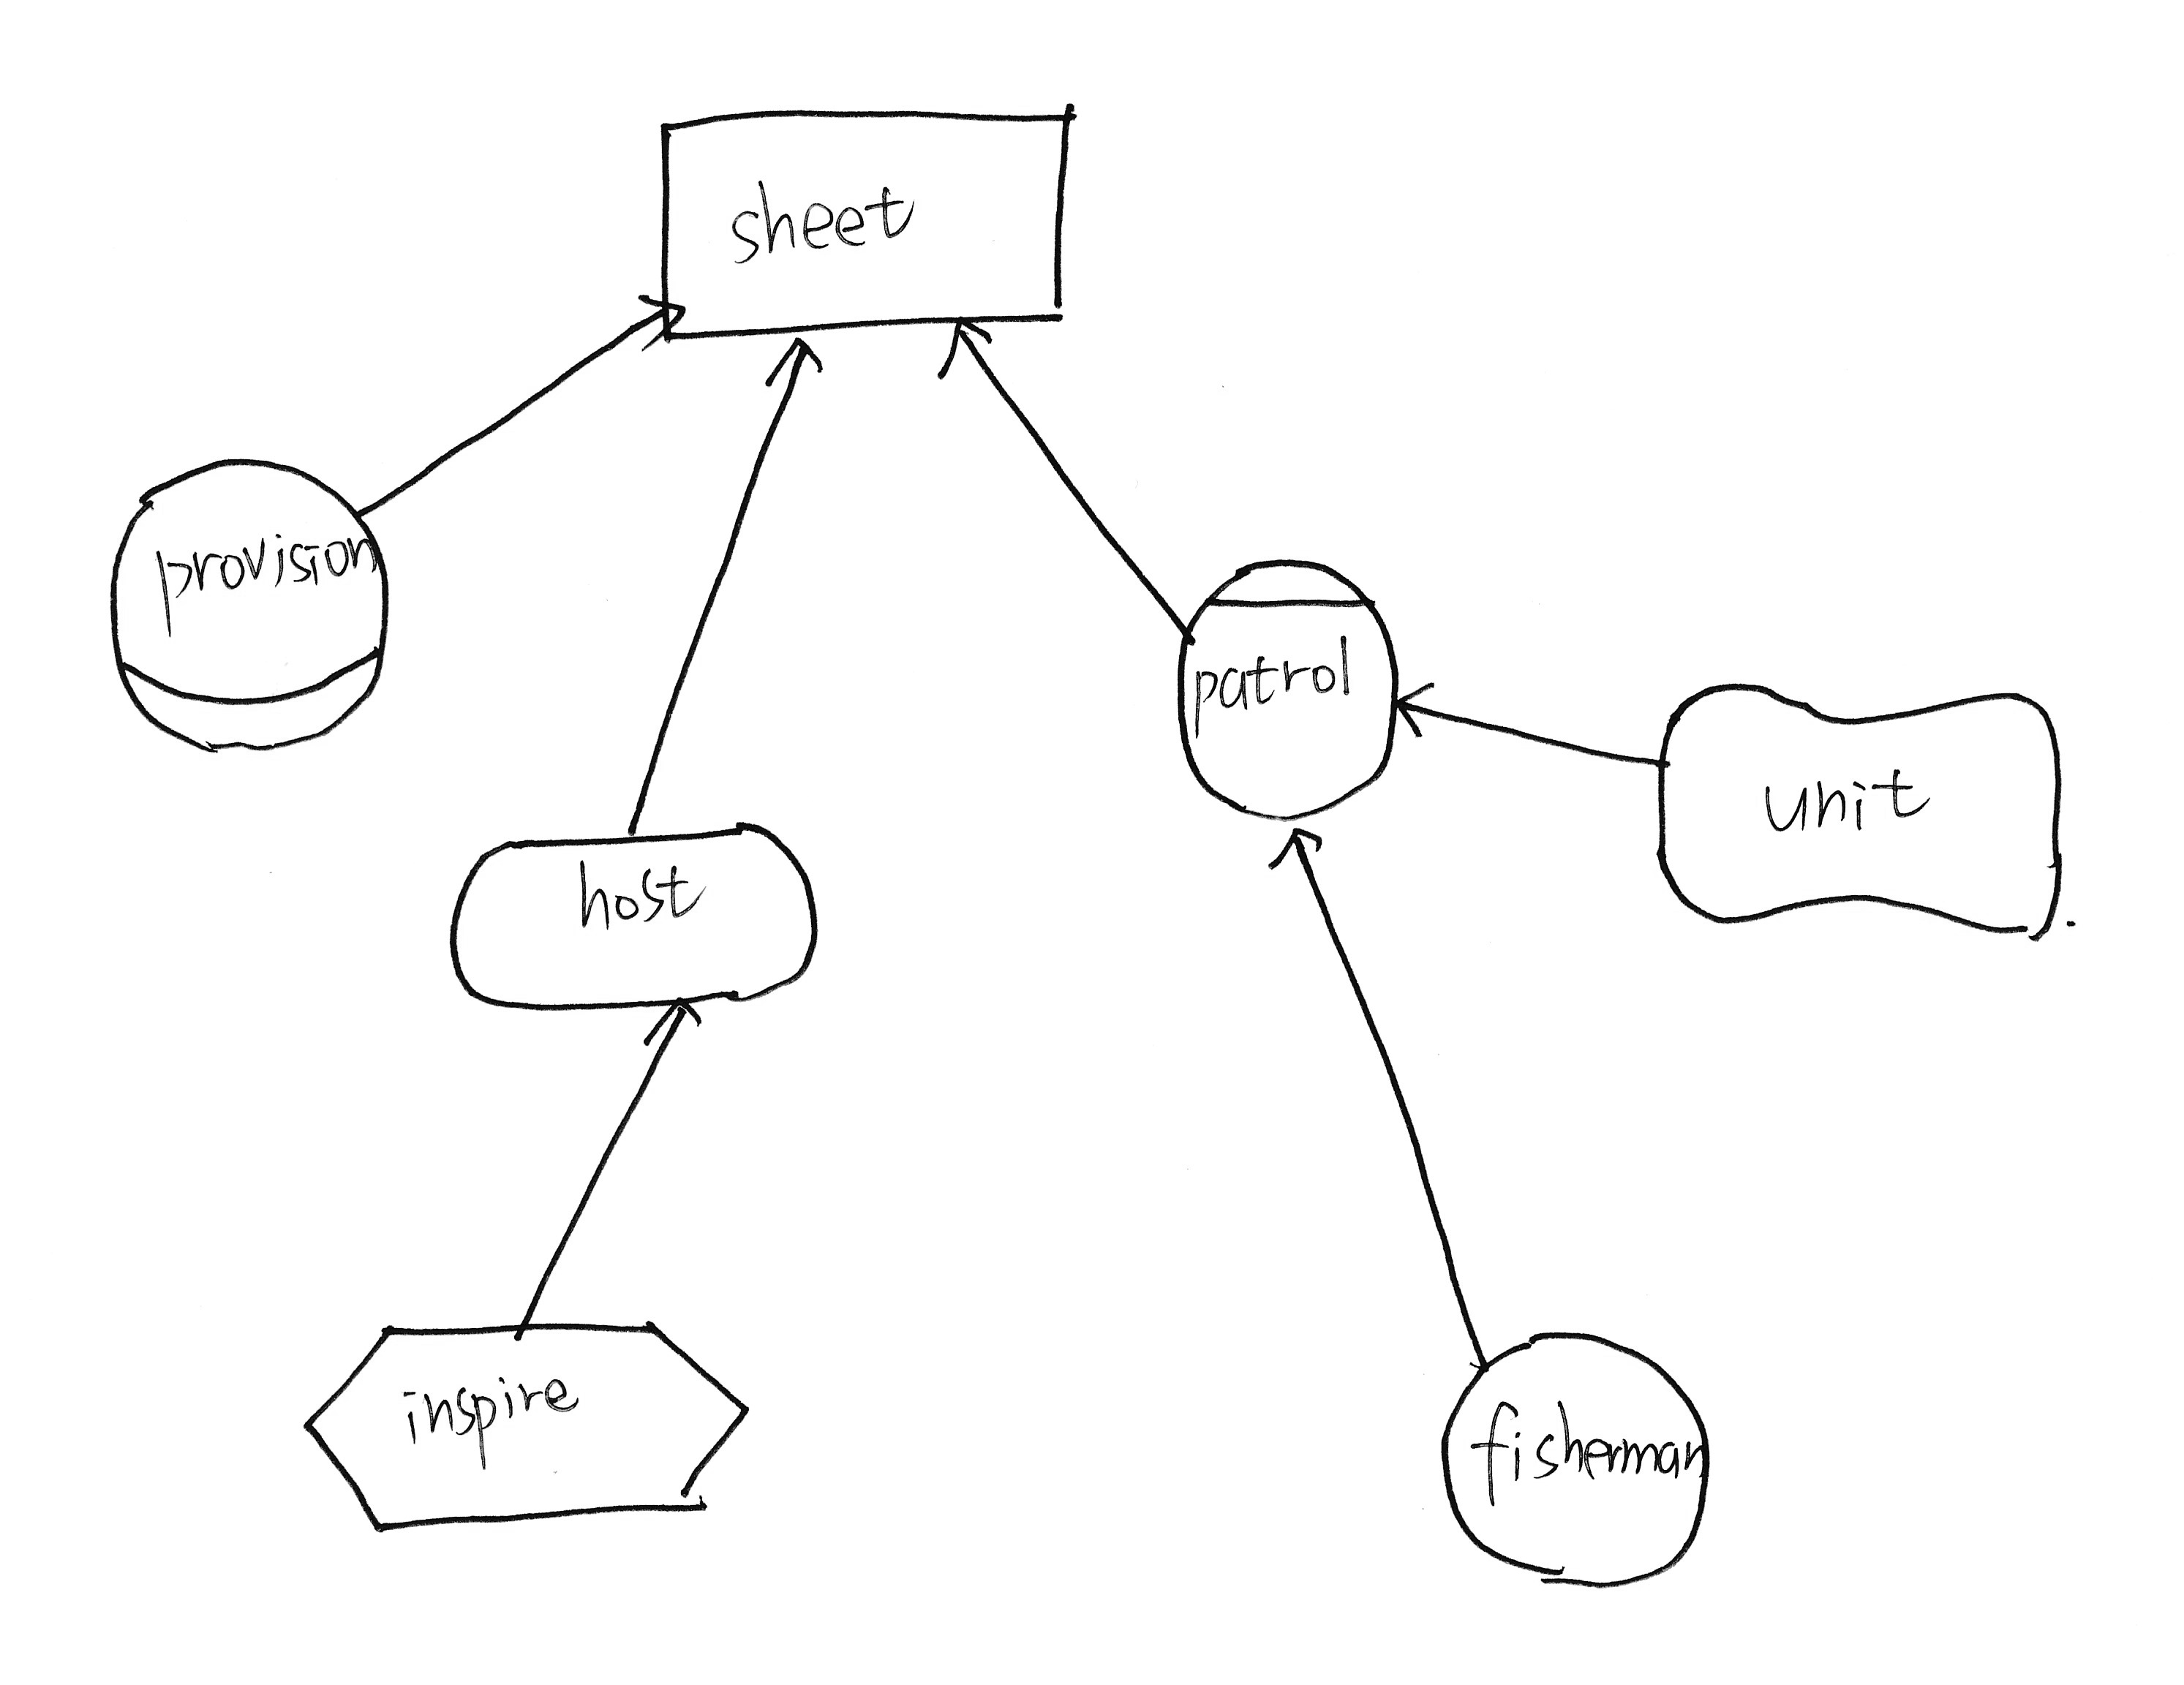actor: (1421, 1310, 1727, 1600)
agent: (1156, 531, 1430, 841)
arrow: (1257, 805, 1349, 883), (628, 981, 720, 1057), (618, 281, 696, 363), (763, 329, 839, 412), (927, 303, 1002, 388), (1379, 671, 1450, 747)
goal: (432, 805, 839, 1028)
quality: (1626, 662, 2092, 956)
resource: (632, 85, 1101, 363)
role: (90, 435, 412, 773)
task: (285, 1297, 772, 1542)
